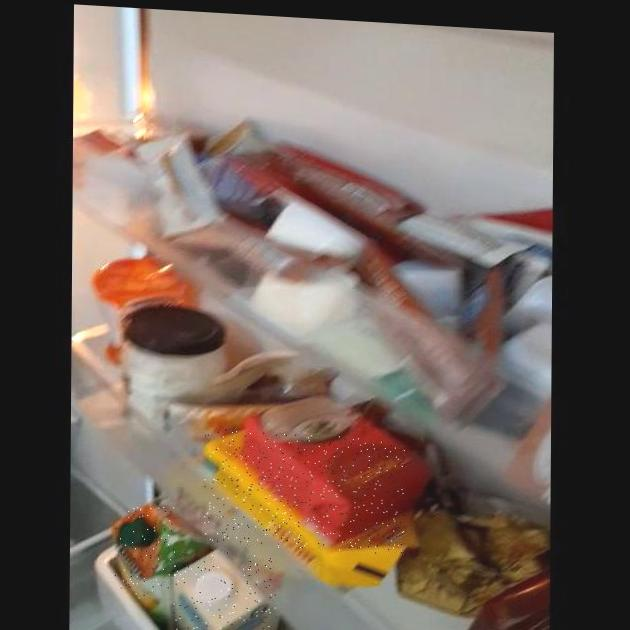butter: (205, 428, 405, 555)
juice: (115, 504, 174, 605)
milk: (173, 550, 277, 630)
sauce: (97, 257, 179, 363)
